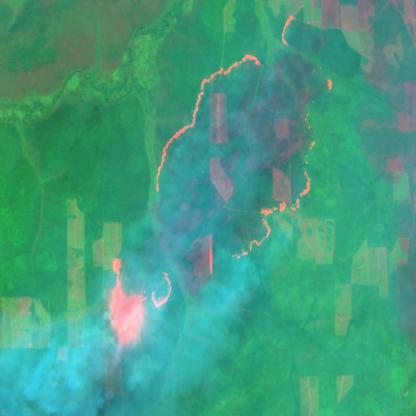fire: (152, 16, 335, 275), (107, 254, 174, 353)
